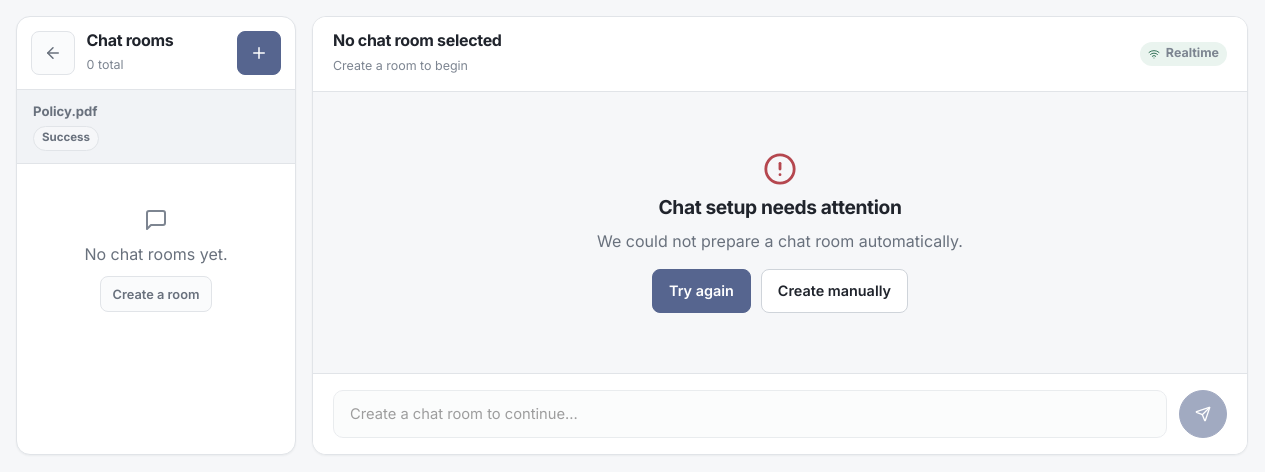
Test: DocumentChat › offers a retry when automatic room creation fails
The image size is (1265, 472).
Expected: the text "We could not prepare a chat room automatically." is shown, [597,229,963,253]
Click the button "Try again" at (701, 291), box [652,269,751,313]
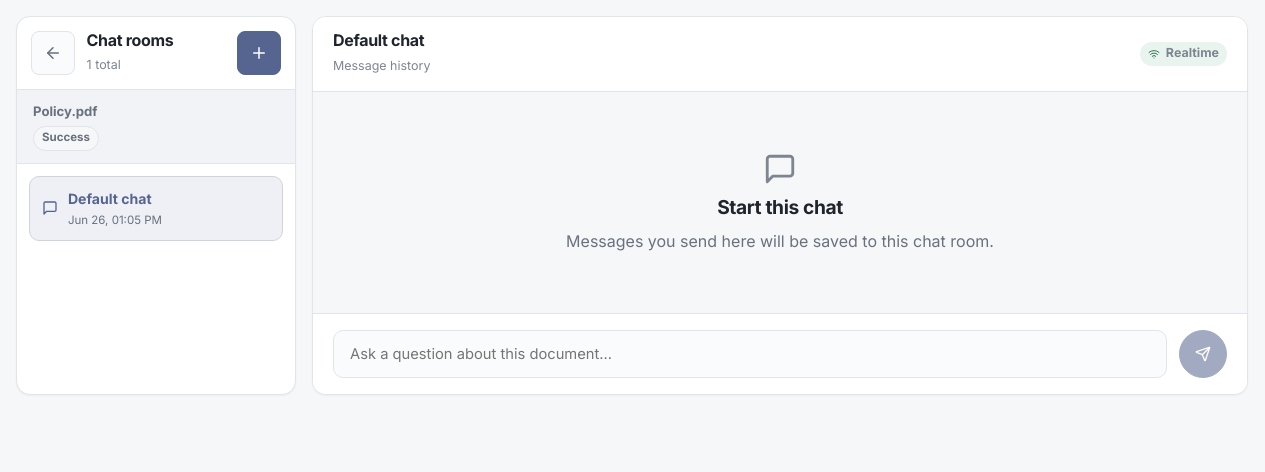
Expected: the field with placeholder "Ask a question about this document..." is enabled, [333,330,1167,378]
